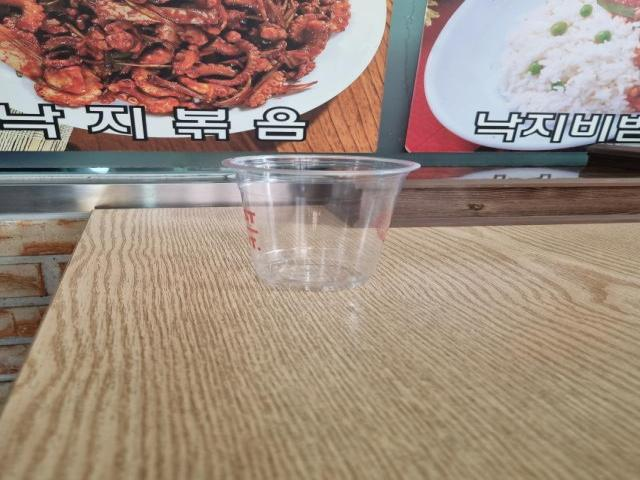cup: (214, 150, 426, 296)
